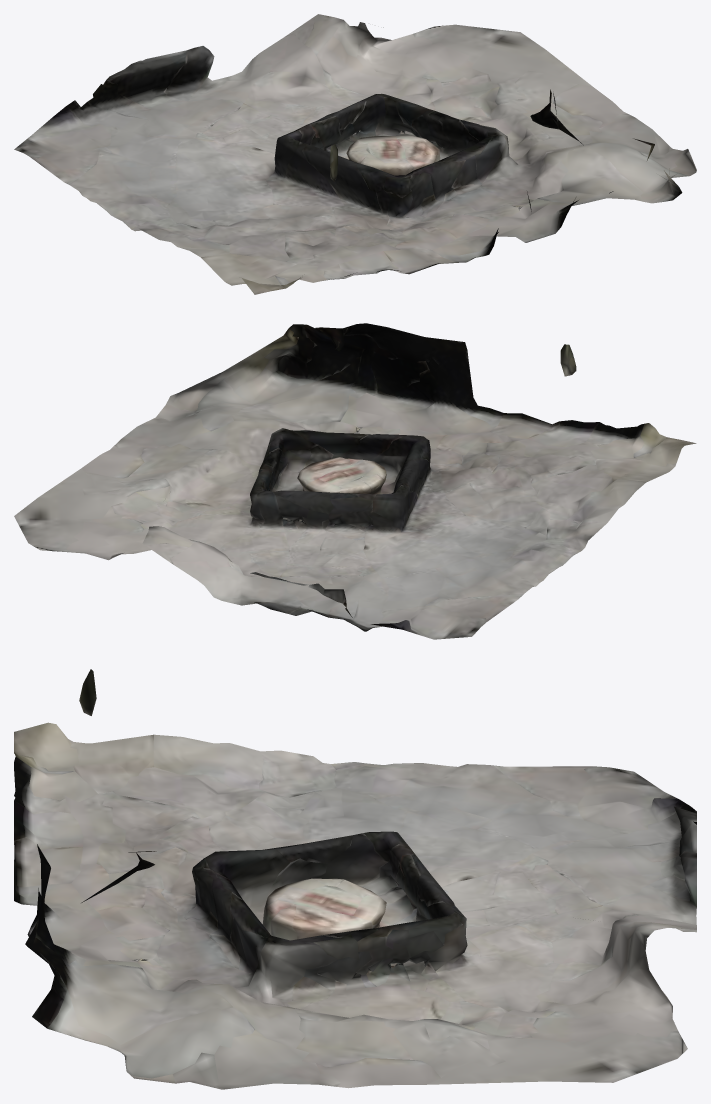
Rendered from hall.glb.
The picture shows the model from 3 angles, top to bottom: view 1: azimuth 30°, elevation 25°; view 2: azimuth 150°, elevation 25°; view 3: azimuth 270°, elevation 25°; orthographic projection. The views are drawn at different scales.
Size of the model in its own units: 2.33 by 0.6268 by 2.15.
1 material, 1 textured.
